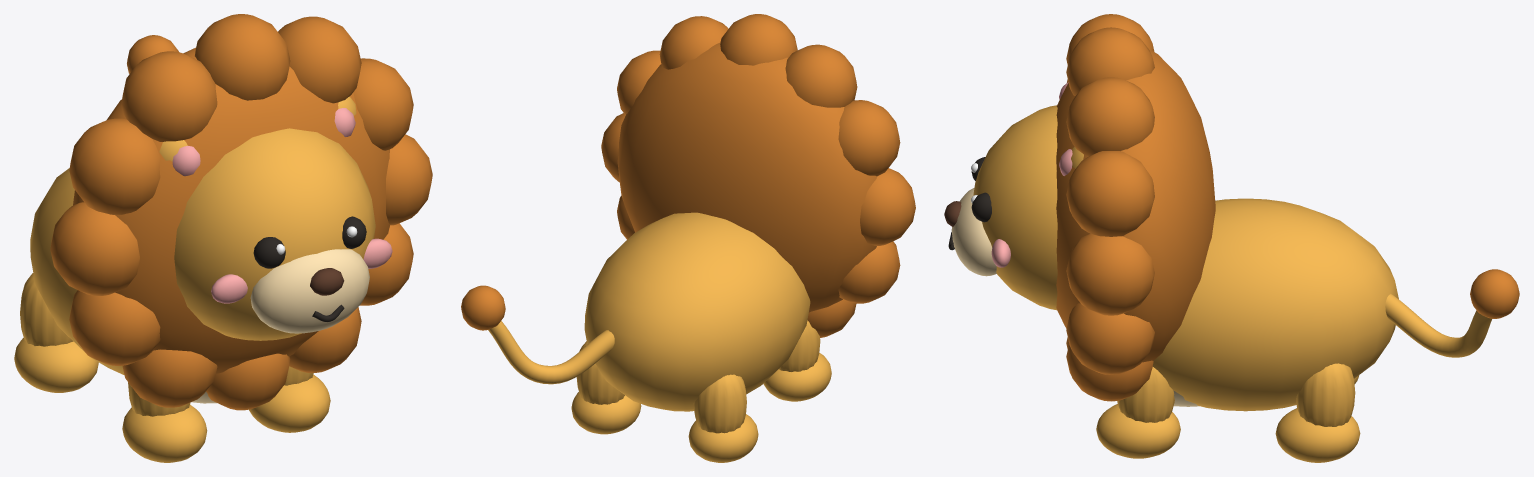
Rendered from lion.glb.
3 views of the same model, side by side, from view 1: azimuth 30°, elevation 25°; view 2: azimuth 150°, elevation 25°; view 3: azimuth 270°, elevation 25° (orthographic). The views are drawn at different scales.
Visible parts, largest first — view 1: face, mane, manebump5, manebump4, muzzle, manebump6, manebump3, manebump7, manebump2, body, manebump8, manebump1 (+17 smaller); view 2: mane, body, manebump5, manebump4, manebump6, manebump3, tailmesh, leg2, manebump7, manebump2, paw2, paw3 (+7 smaller); view 3: body, mane, face, manebump1, manebump0, manebump2, manebump11, manebump3, paw3, paw1, leg3, tailmesh (+5 smaller).
Boxes of the visible parts, bbox=[...] form: face: bbox=[174, 128, 375, 340]; mane: bbox=[73, 47, 389, 373]; manebump5: bbox=[69, 118, 160, 214]; manebump4: bbox=[121, 51, 217, 141]; muzzle: bbox=[250, 249, 369, 333]; manebump6: bbox=[50, 202, 139, 295]; manebump3: bbox=[195, 14, 290, 100]; manebump7: bbox=[69, 290, 160, 365]; manebump2: bbox=[278, 16, 361, 103]; body: bbox=[30, 168, 124, 375]; manebump8: bbox=[122, 349, 217, 407]; manebump1: bbox=[353, 58, 413, 150]; mane: bbox=[617, 43, 877, 312]; body: bbox=[584, 212, 810, 411]; manebump5: bbox=[838, 100, 900, 176]; manebump4: bbox=[785, 44, 857, 107]; manebump6: bbox=[860, 168, 915, 245]; manebump3: bbox=[720, 14, 797, 65]; tailmesh: bbox=[488, 320, 614, 384]; leg2: bbox=[693, 374, 746, 433]; manebump7: bbox=[838, 241, 900, 303]; manebump2: bbox=[659, 16, 728, 69]; paw2: bbox=[688, 414, 758, 462]; paw3: bbox=[571, 392, 641, 434]; body: bbox=[1153, 198, 1398, 411]; mane: bbox=[1056, 50, 1215, 362]; face: bbox=[973, 105, 1057, 310]; manebump1: bbox=[1066, 151, 1154, 236]; manebump0: bbox=[1066, 234, 1154, 315]; manebump2: bbox=[1066, 77, 1154, 155]; manebump11: bbox=[1066, 303, 1154, 374]; manebump3: bbox=[1066, 27, 1154, 95]; paw3: bbox=[1275, 408, 1360, 462]; paw1: bbox=[1096, 404, 1180, 458]; leg3: bbox=[1296, 363, 1355, 426]; tailmesh: bbox=[1385, 294, 1491, 357].
Size of the model in its own units: 1.56 by 1.75 by 2.31.
